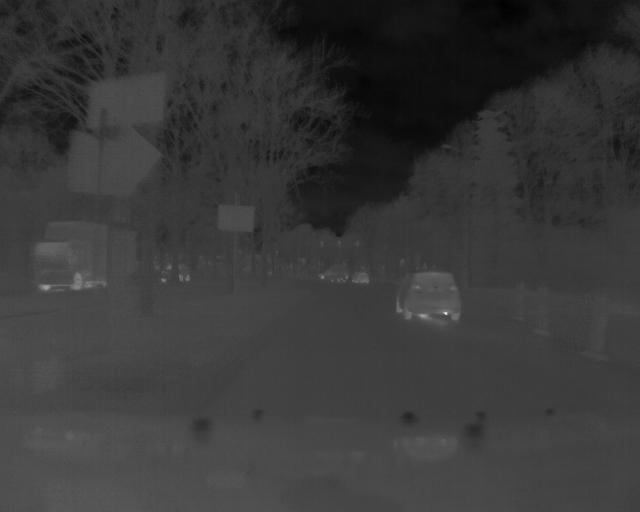car: (33, 222, 140, 290), (395, 270, 464, 326), (352, 270, 371, 286)
